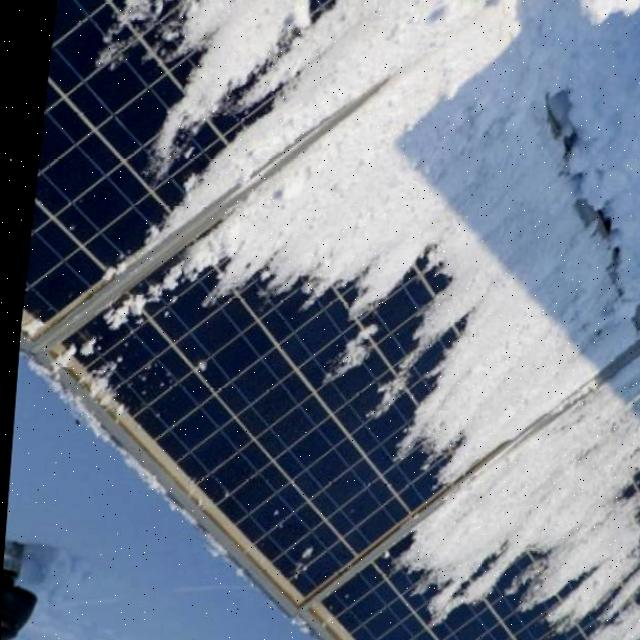Anomaly Solar Panel: (42, 24, 635, 612), (14, 0, 464, 360), (304, 351, 640, 640)
Snow: (121, 0, 640, 640)
